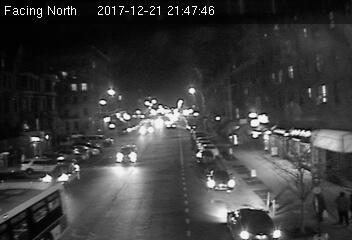car: (225, 205, 281, 240), (42, 162, 80, 184), (206, 168, 234, 192), (116, 145, 140, 164), (194, 149, 216, 164)
